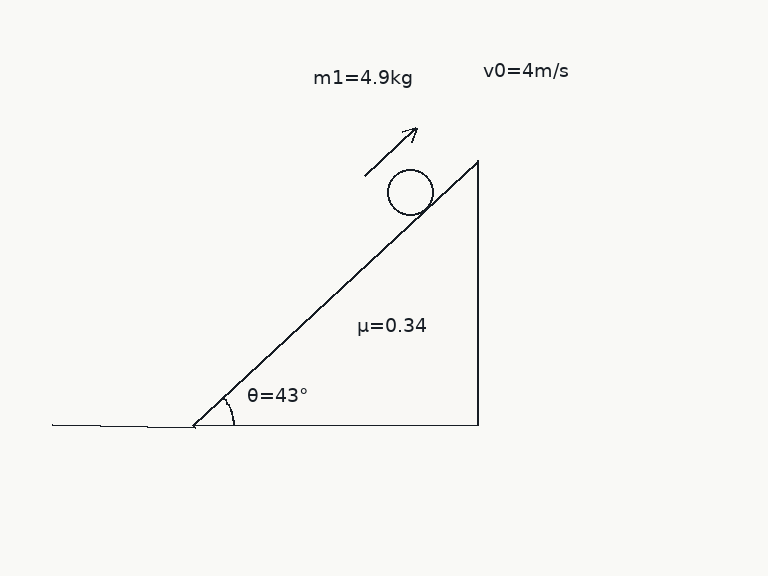ball: (385, 167, 435, 217)
ramp: (192, 158, 480, 427)
